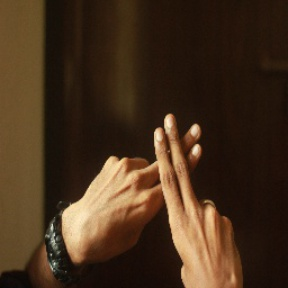F: (124, 109, 220, 223)
